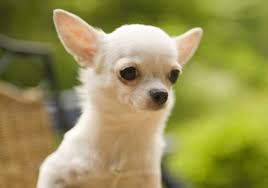chihuahua: (23, 2, 210, 188)
